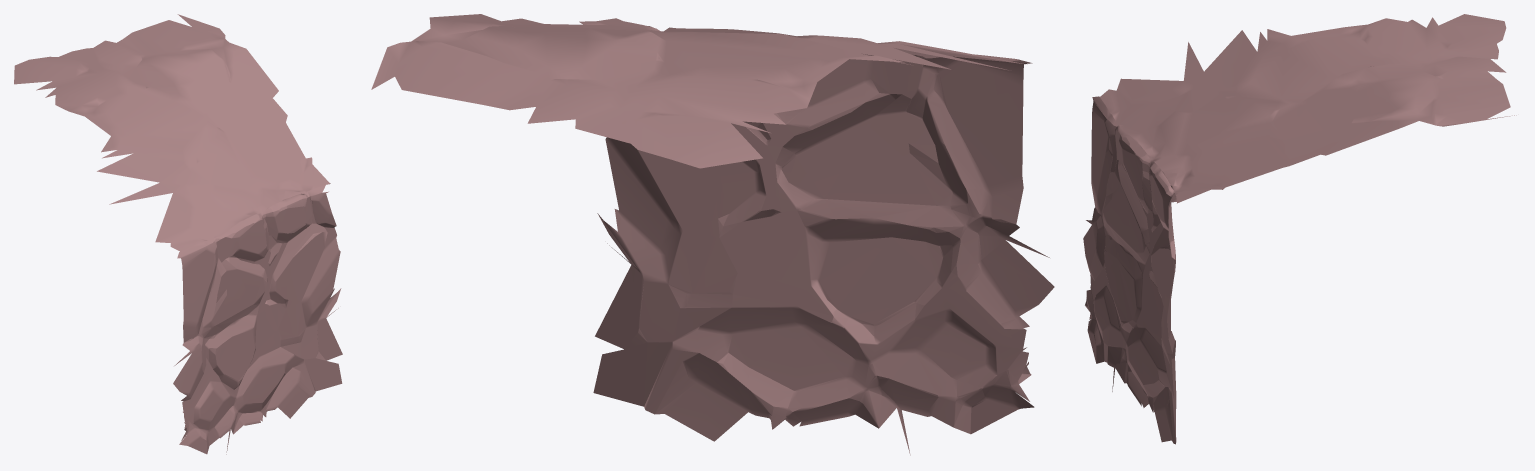
File: plateau.fbx_Rock_Plateau_008LODs.fbx
3 renders of one model, left to right at view 1: azimuth 30°, elevation 25°; view 2: azimuth 150°, elevation 25°; view 3: azimuth 270°, elevation 25°, orthographic. The views are drawn at different scales.
Parts seen in each view (by area): view 1: Rock Plateau.008_LOD0; view 2: Rock Plateau.008_LOD0; view 3: Rock Plateau.008_LOD0.
Boxes of the visible parts, <box> form: Rock Plateau.008_LOD0: <box>14,14,342,454</box>; Rock Plateau.008_LOD0: <box>371,14,1054,455</box>; Rock Plateau.008_LOD0: <box>1083,14,1516,444</box>.
Size of what is drawn, in the model's own units: 3355 by 4067 by 4581.
